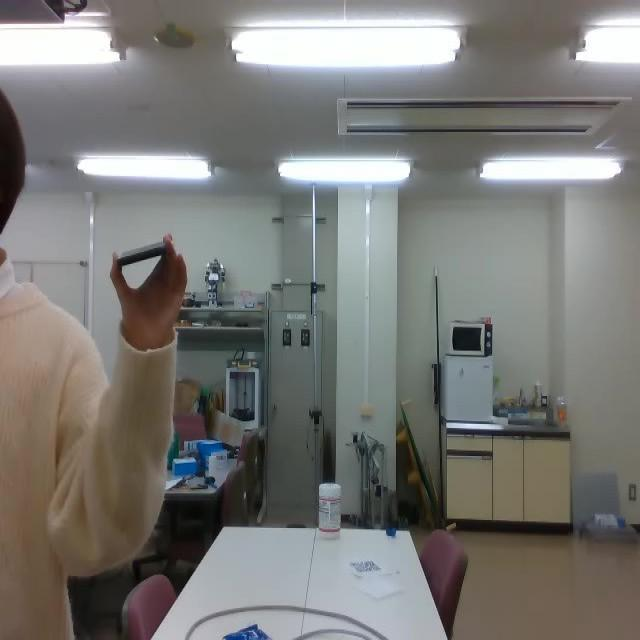Phone: (114, 240, 168, 268)
